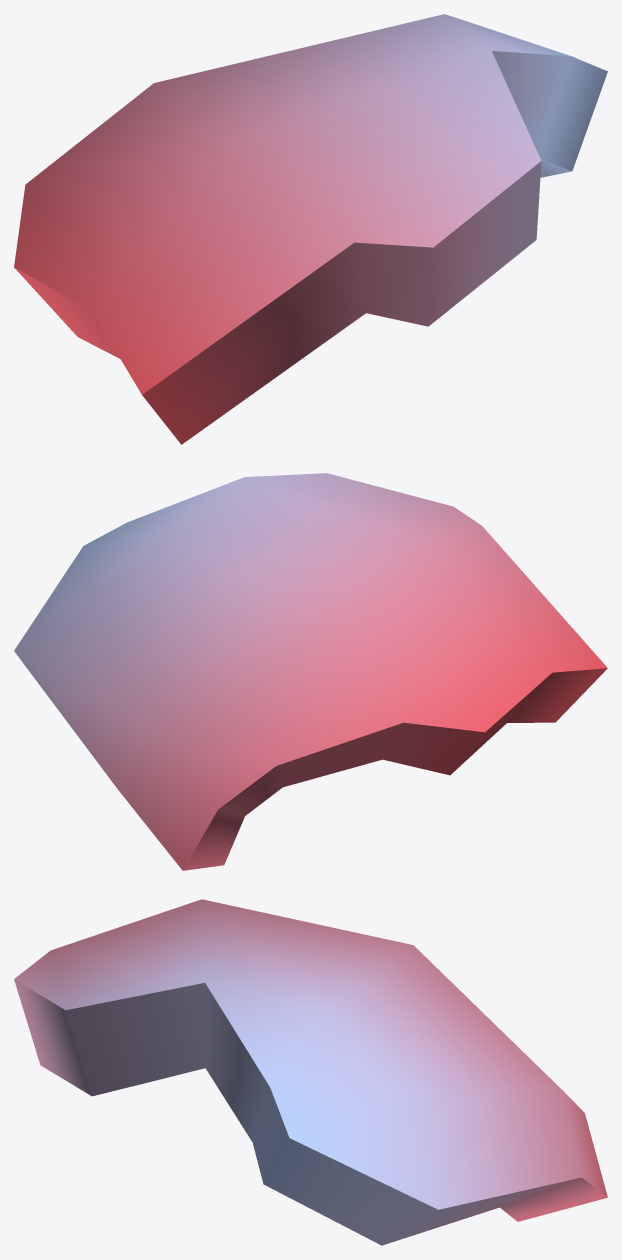
File: Egg_Particle_Red_003.fbx
3 views of the same model, one above another, from view 1: azimuth 30°, elevation 25°; view 2: azimuth 150°, elevation 25°; view 3: azimuth 270°, elevation 25° (orthographic). The views are drawn at different scales.
Visible parts, largest first — view 1: Egg_Particle_Red_003; view 2: Egg_Particle_Red_003; view 3: Egg_Particle_Red_003.
Boxes of the visible parts, <box> form: Egg_Particle_Red_003: <box>14,14,607,444</box>; Egg_Particle_Red_003: <box>14,473,607,870</box>; Egg_Particle_Red_003: <box>14,899,607,1245</box>.
Bounding box in the file's own units: 1.17 × 0.6551 × 1.16.
